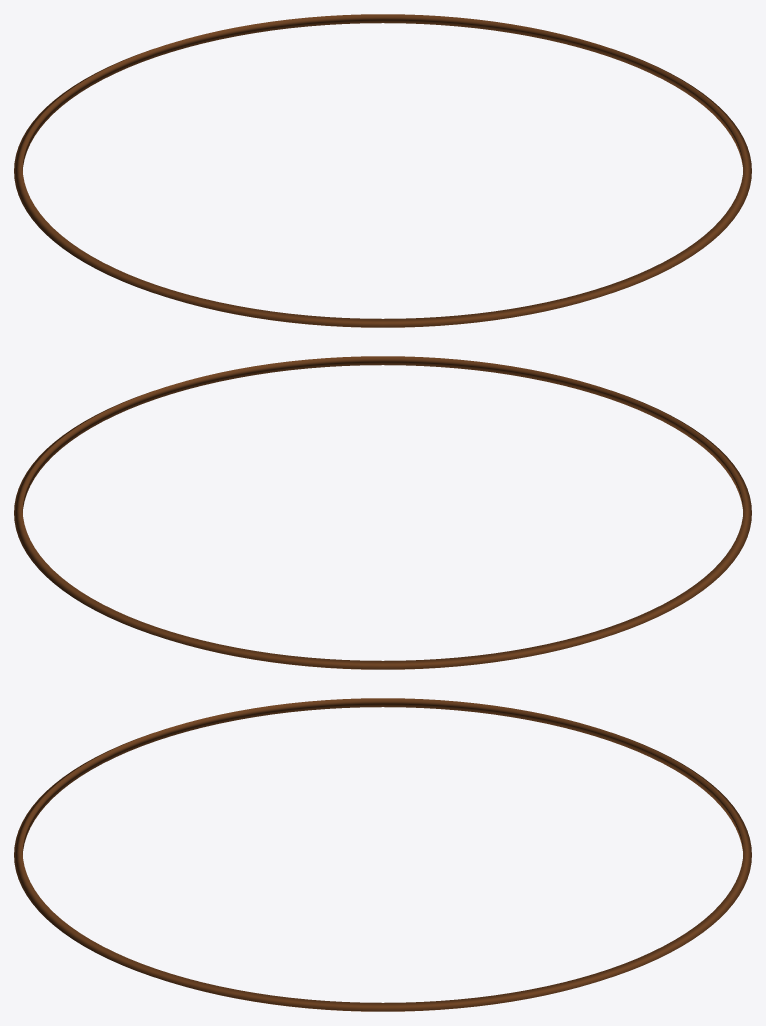
Rendered from bleacher-seat.glb.
3 renders of one model, top to bottom at view 1: azimuth 30°, elevation 25°; view 2: azimuth 150°, elevation 25°; view 3: azimuth 270°, elevation 25°, orthographic.
Bounding box in the file's own units: 28.44 × 0.3811 × 28.44.
